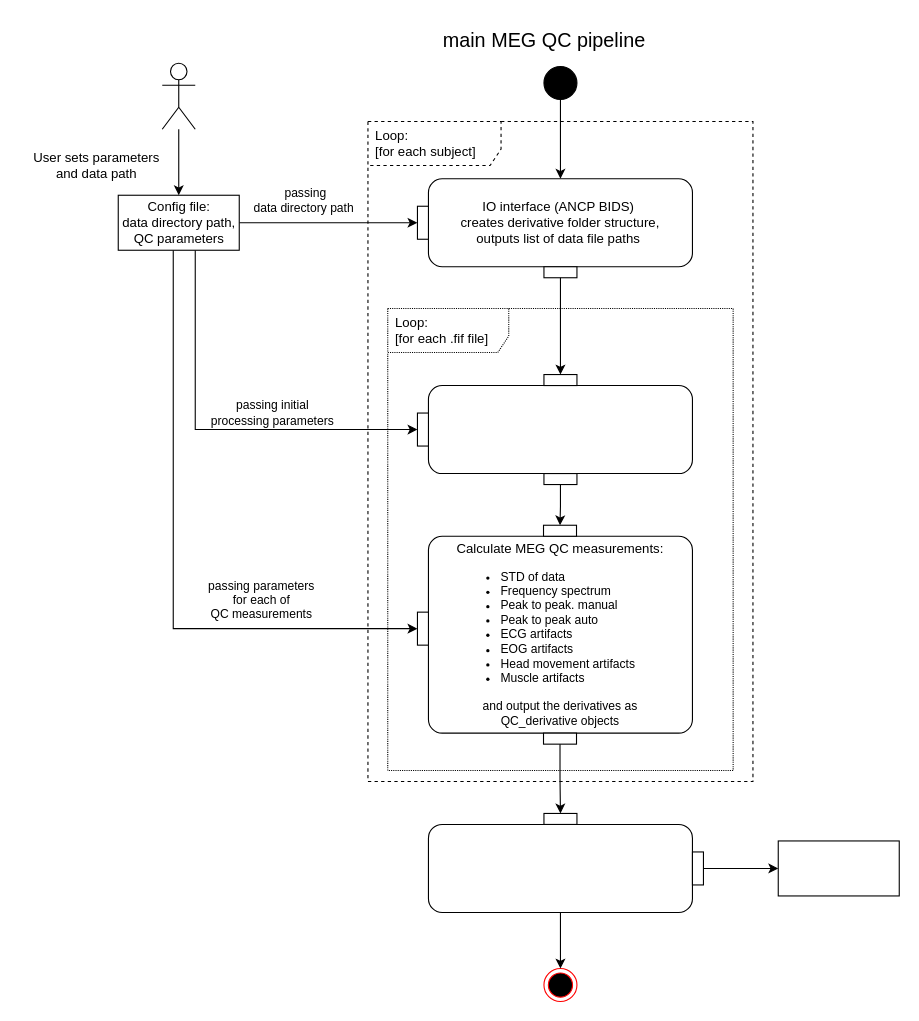
Image size: 919x1021. Some labels were removed from this diagram. The centre of each missing label's shape, as x and y in pixels:
Derivatives: html report, csv files: pixel 838 868
IO interface (ANCP BIDS) writes derivatives back into data system: pixel 559 867
Load, filter (except muscle), epoch data initial_processing(): pixel 559 429
